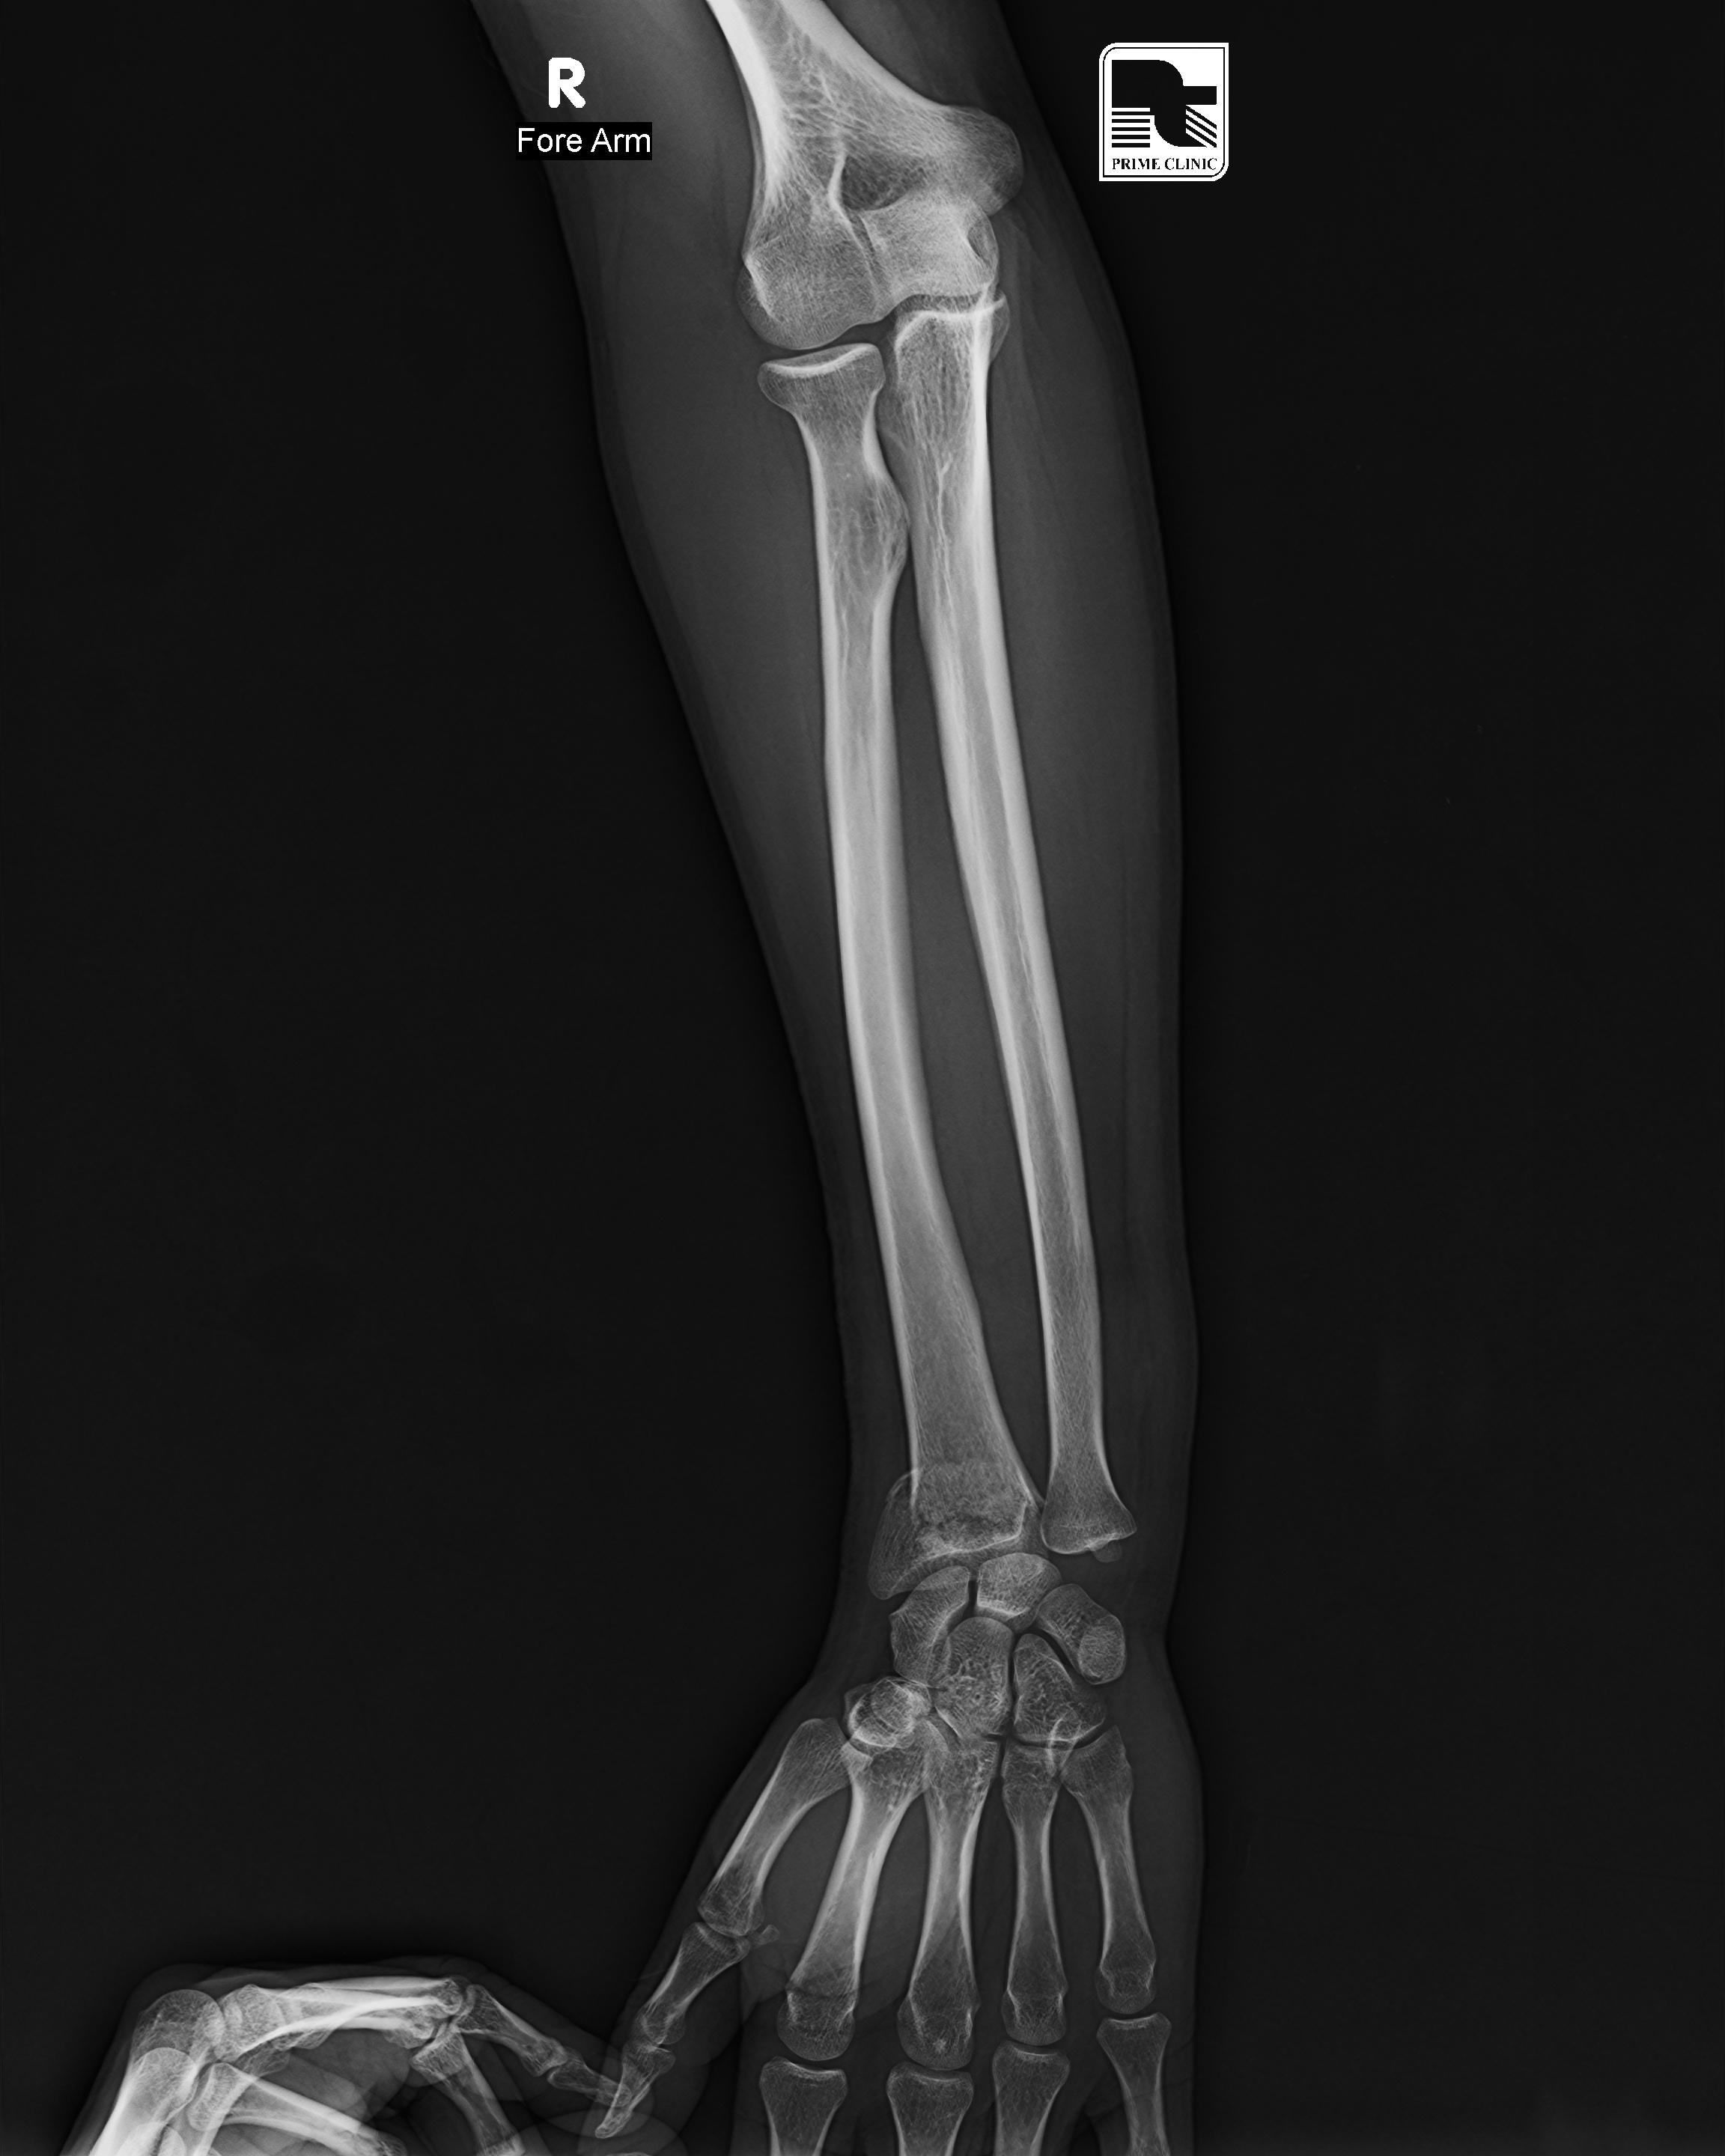fractured: (857, 1448, 1040, 1610)
